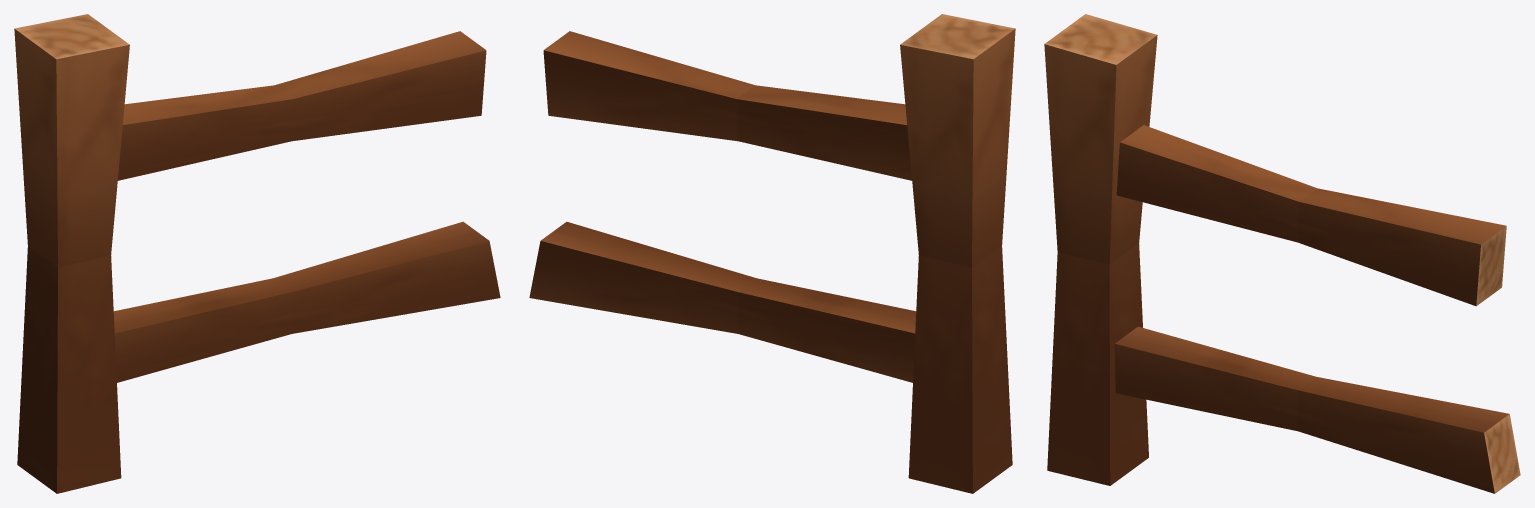
Rendered from fence_05.fbx.
3 views of the same model, side by side, from view 1: azimuth 30°, elevation 25°; view 2: azimuth 150°, elevation 25°; view 3: azimuth 330°, elevation 25° (orthographic). The views are drawn at different scales.
Visible parts, largest first — view 1: Cube.016; view 2: Cube.016; view 3: Cube.016.
Boxes of the visible parts, x1,y1,x2,y2 form: Cube.016: (14, 14, 500, 493); Cube.016: (529, 14, 1015, 493); Cube.016: (1044, 14, 1520, 493).
Size of the model in its own units: 109 by 100 by 17.47.
